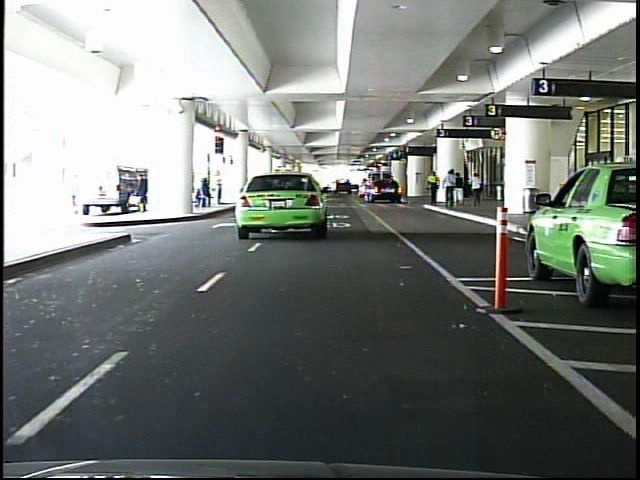person: (468, 168, 488, 212), (441, 166, 458, 212), (425, 166, 443, 209), (454, 172, 466, 212)
